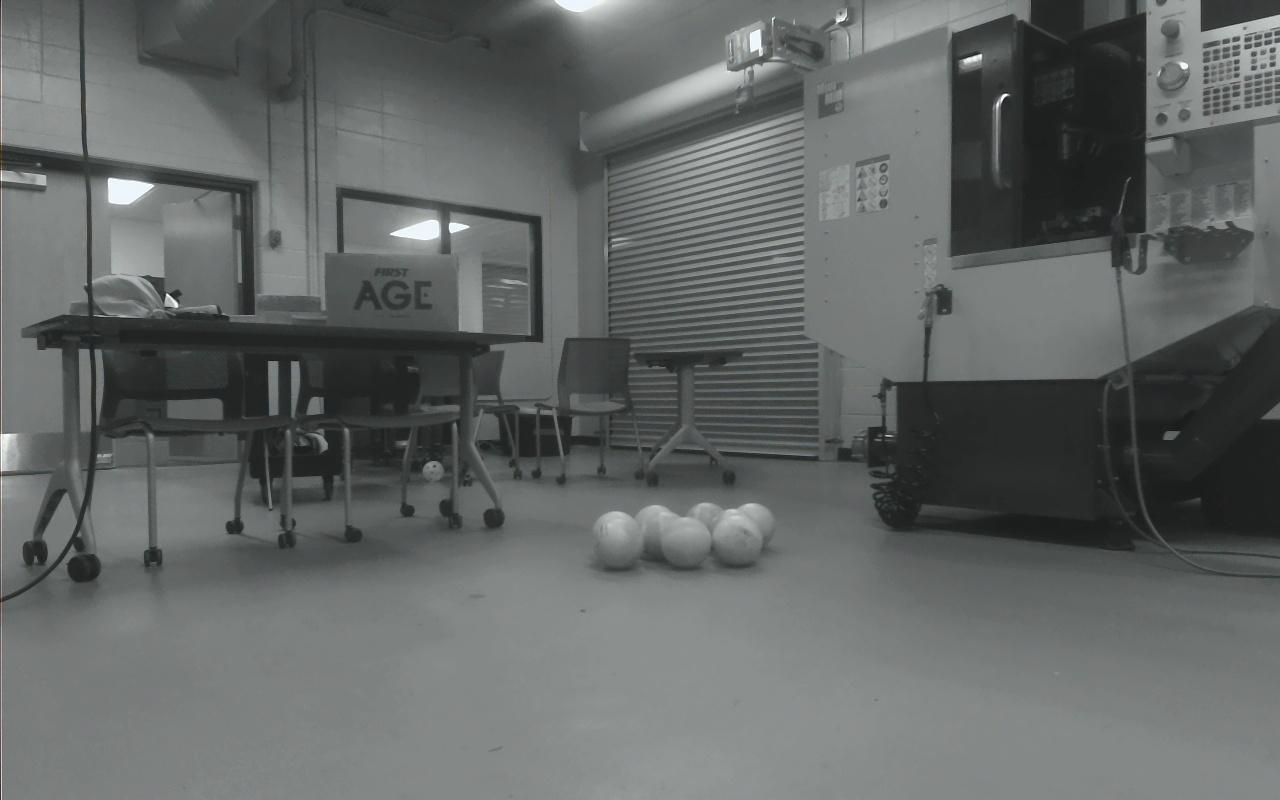Fuel: (660, 515, 713, 570), (712, 513, 764, 566), (592, 517, 643, 571), (593, 510, 643, 562), (716, 507, 763, 558), (645, 509, 686, 562), (686, 502, 726, 555), (634, 505, 673, 558), (735, 502, 776, 550)
